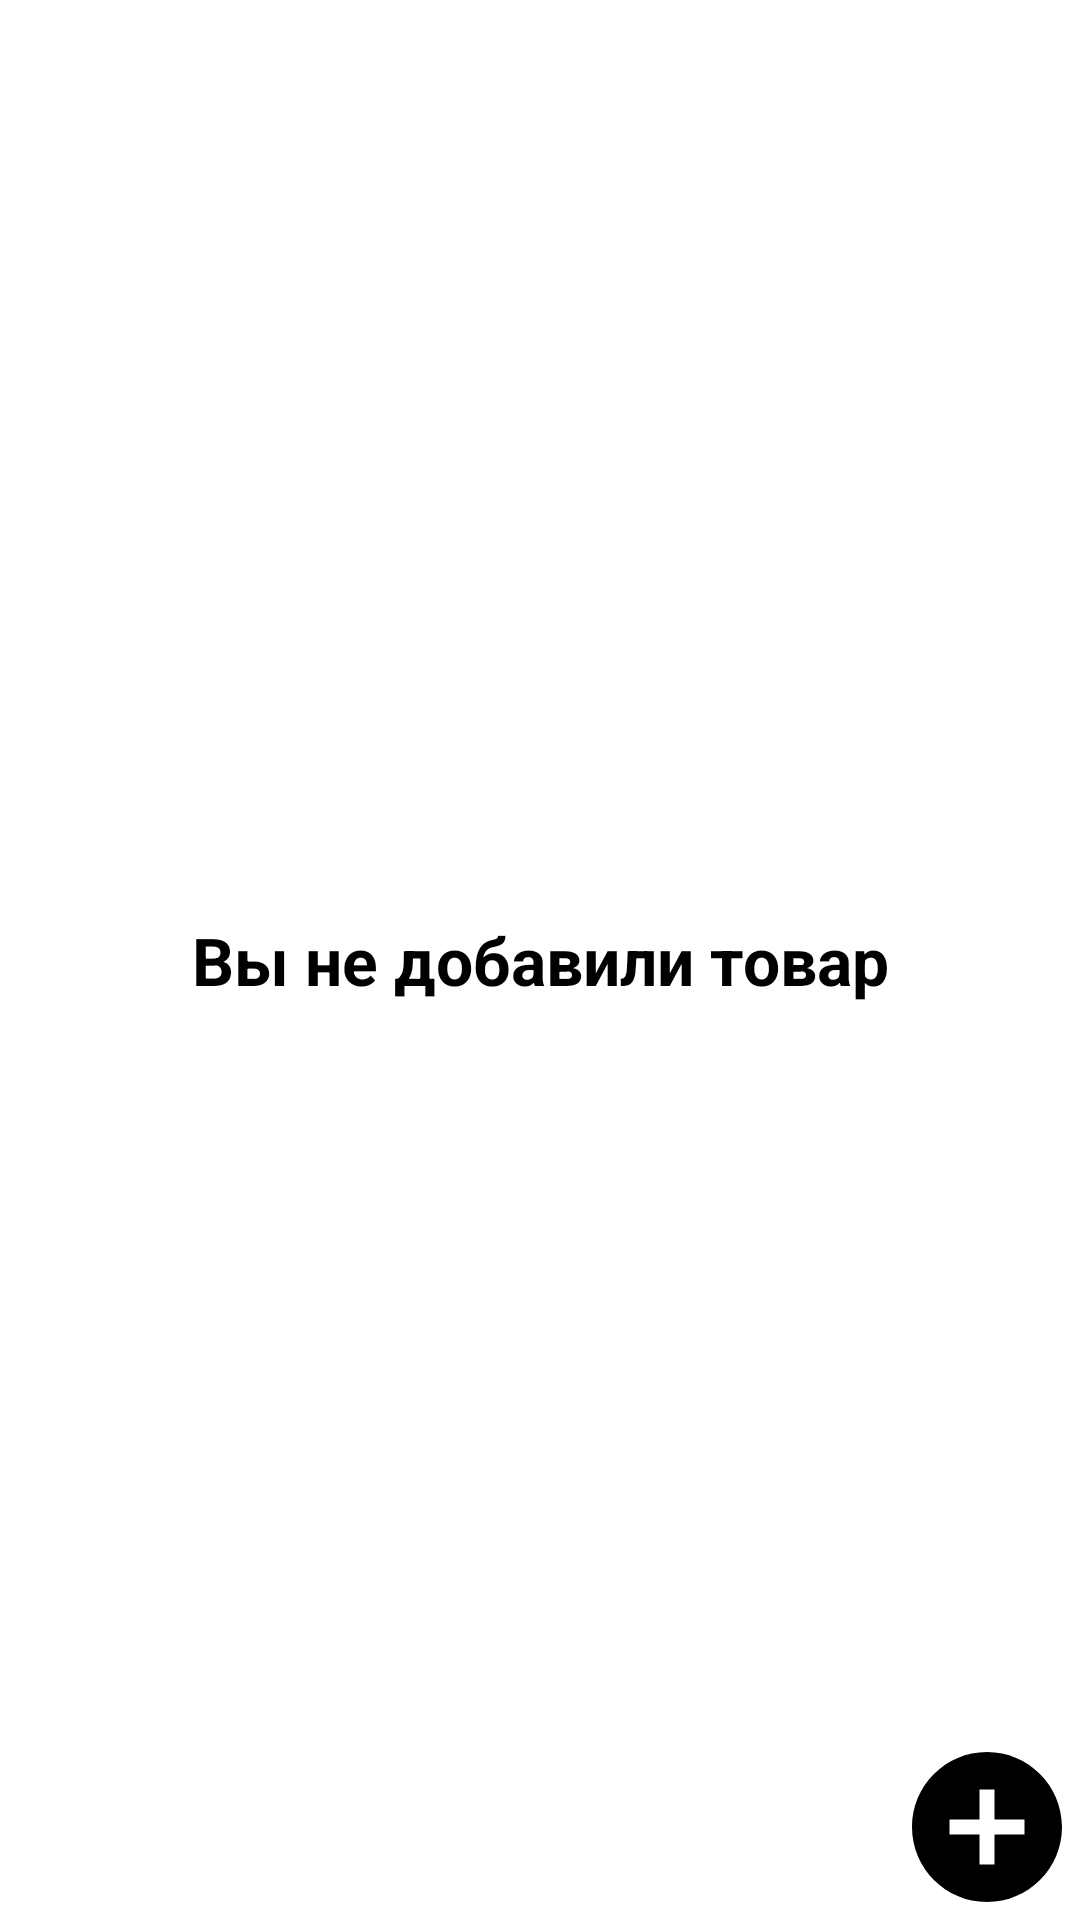

Point at icon controls on the screen. Image size 1080*1920, points as point (x, y).
add circle: point (987, 1827)
